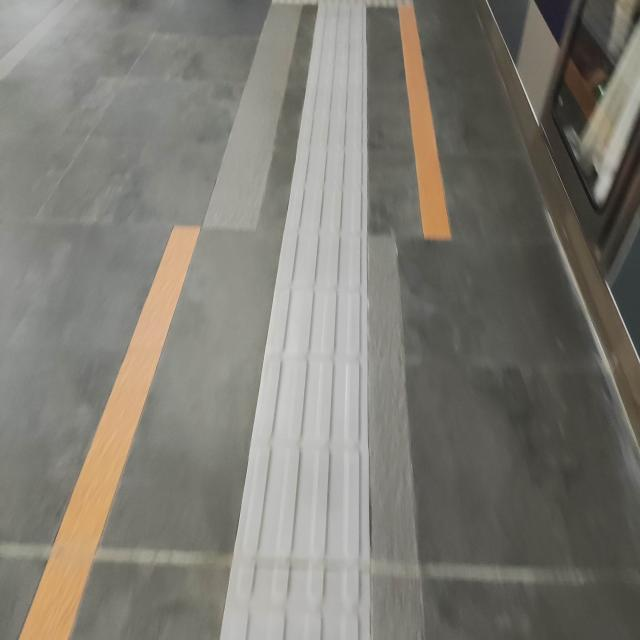lurus: (236, 26, 372, 640)
